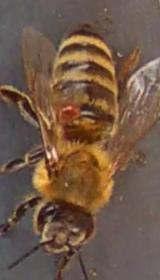varroa_mite: (49, 99, 83, 128)
